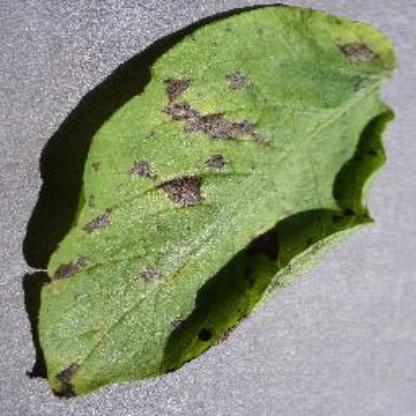Early-Blight: (25, 1, 392, 404)
